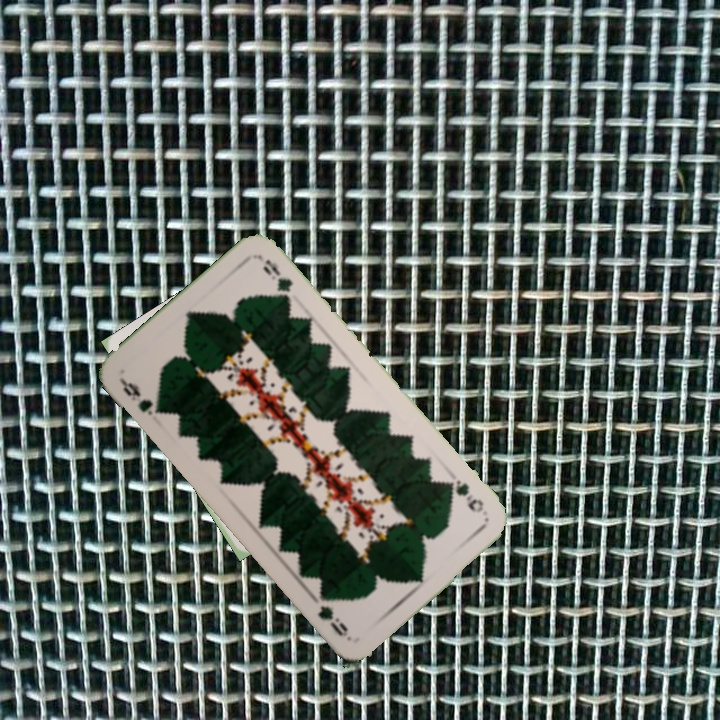G9: (116, 375, 168, 419), (442, 475, 487, 516)
